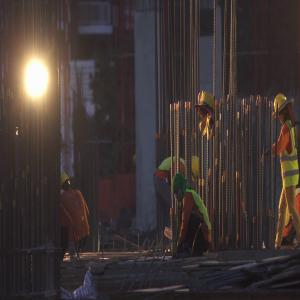none: (173, 175, 187, 203)
yellow: (274, 95, 289, 125), (61, 172, 72, 194)
